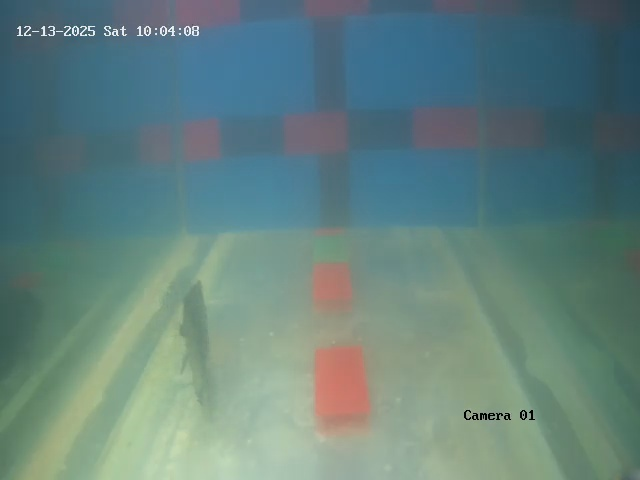fish: (171, 274, 218, 380)
